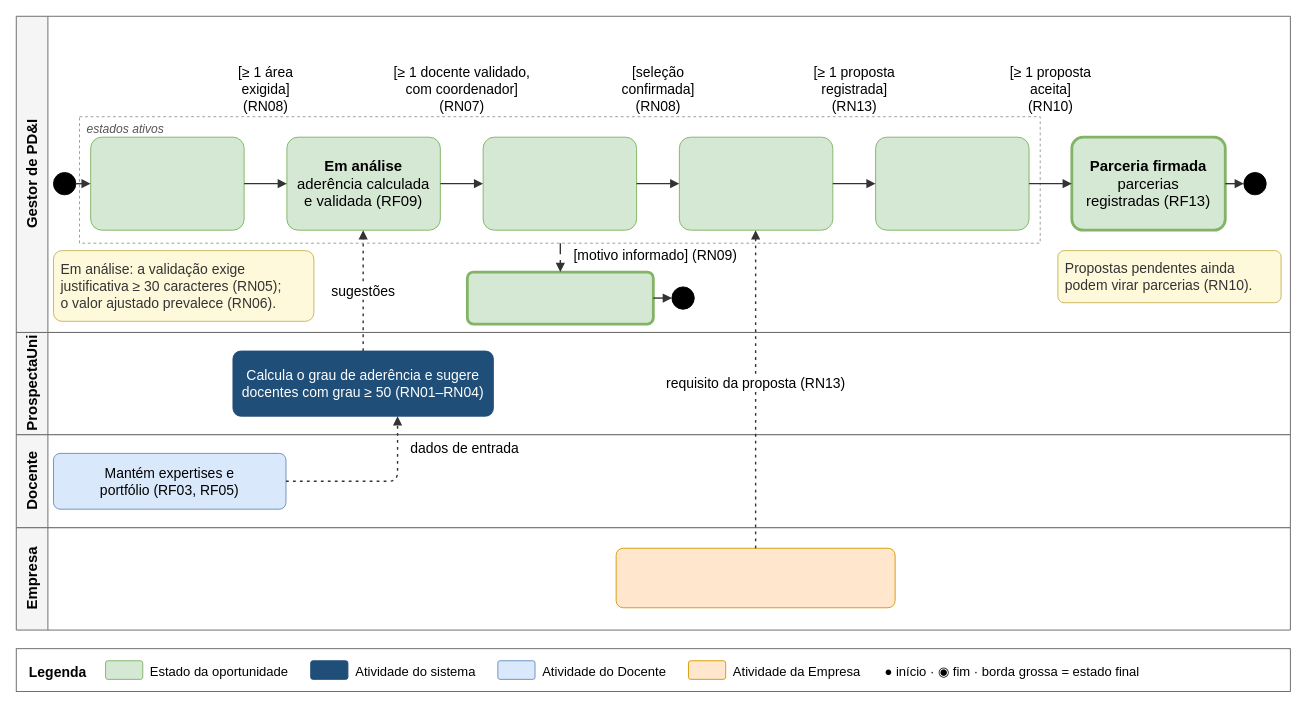
Image size: 1307x708. Some labels were removed from this diagram. Each missing label, with the centre of its shape:
Descartada motivo registrado (RF13): the point at 559,297
Docentes selecionados coordenador definido (RF10): the point at 559,183
Em negociação negociação com as empresas: the point at 952,183
Identificada oportunidade registrada (RF06): the point at 167,183
Proposta em elaboração uma proposta por empresa (RF18): the point at 755,183
Representante manifesta interesse em oportunidade do seu setor (RF12, RN11): the point at 755,577
